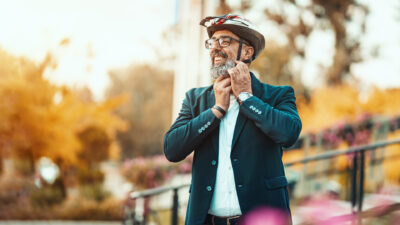helmet: (199, 15, 266, 80)
